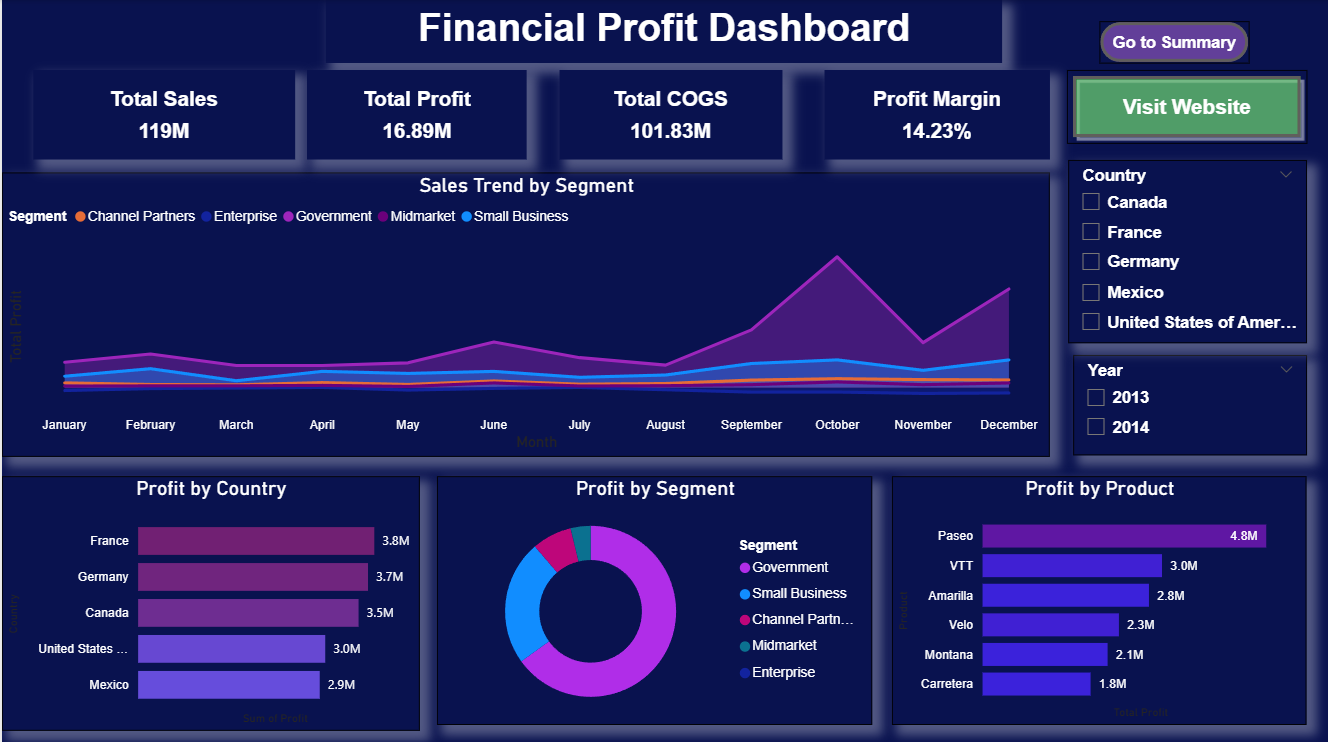

The page's visual inventory and layout, read from the dashboard file:
{"tool":"powerbi","page":{"name":"Profit Dashboard","canvas":[1280,720],"ordinal":2},"visuals":[{"type":"textbox","box":[312.7,0,653,61.1],"z":0},{"type":"clusteredBarChart","title":"Profit by Country","fields":{"Category":["financials.Country"],"Y":["Sum(financials.Profit)"]},"box":[0,459.5,402.8,245.8],"z":1000},{"type":"donutChart","title":"Profit by Segment","fields":{"Category":["financials.Segment"],"Y":["financials.Total Profit"]},"box":[420.3,459.5,420.3,239.9],"z":2000},{"type":"clusteredBarChart","title":"Profit by Product","fields":{"Category":["financials.Product"],"Y":["financials.Total Profit"]},"box":[859.5,459.5,399.9,239.9],"z":3000},{"type":"areaChart","title":"Sales Trend by Segment","fields":{"Category":["financials.Date.Variation.Date Hierarchy.Month"],"Series":["financials.Segment"],"Y":["financials.Total Profit"]},"box":[0,165.9,1011.4,274.1],"z":4000},{"type":"cardVisual","fields":{"Data":["financials.Total Sales"]},"box":[30.3,67.8,252.5,86.6],"z":5000},{"type":"cardVisual","fields":{"Data":["financials.Total Profit"]},"box":[294.3,67.8,212.1,86.6],"z":6000},{"type":"cardVisual","fields":{"Data":["financials.Total COGS"]},"box":[538.2,67.8,215,86.6],"z":7000},{"type":"cardVisual","fields":{"Data":["financials.Profit Margin"]},"box":[793.5,67.8,217.9,86.6],"z":8000},{"type":"slicer","fields":{"Values":["financials.Date.Variation.Date Hierarchy.Year"]},"box":[1033.6,343.1,225.8,97],"z":9000},{"type":"slicer","fields":{"Values":["financials.Country"]},"box":[1029.3,154.9,230.2,176.6],"z":10000},{"type":"actionButton","box":[1027.8,68,231.6,70.9],"z":11000},{"type":"actionButton","box":[1059.7,20.3,144.8,40.5],"z":12000}]}

Visuals, with their boxes in screenshot pixels (x1, y1, x2, y2), scaled from the page's 1280x720 canvas onto the 1328x742 screenshot:
textbox: pyautogui.locateOnScreen(324, 0, 1002, 63)
"Profit by Country" clusteredBarChart: pyautogui.locateOnScreen(0, 474, 418, 727)
"Profit by Segment" donutChart: pyautogui.locateOnScreen(436, 474, 872, 721)
"Profit by Product" clusteredBarChart: pyautogui.locateOnScreen(892, 474, 1307, 721)
"Sales Trend by Segment" areaChart: pyautogui.locateOnScreen(0, 171, 1049, 453)
cardVisual - financials.Total Sales: pyautogui.locateOnScreen(31, 70, 293, 159)
cardVisual - financials.Total Profit: pyautogui.locateOnScreen(305, 70, 525, 159)
cardVisual - financials.Total COGS: pyautogui.locateOnScreen(558, 70, 781, 159)
cardVisual - financials.Profit Margin: pyautogui.locateOnScreen(823, 70, 1049, 159)
slicer - financials.Date.Variation.Date Hierarchy.Year: pyautogui.locateOnScreen(1072, 354, 1307, 454)
slicer - financials.Country: pyautogui.locateOnScreen(1068, 160, 1307, 342)
actionButton: pyautogui.locateOnScreen(1066, 70, 1307, 143)
actionButton: pyautogui.locateOnScreen(1099, 21, 1250, 63)
